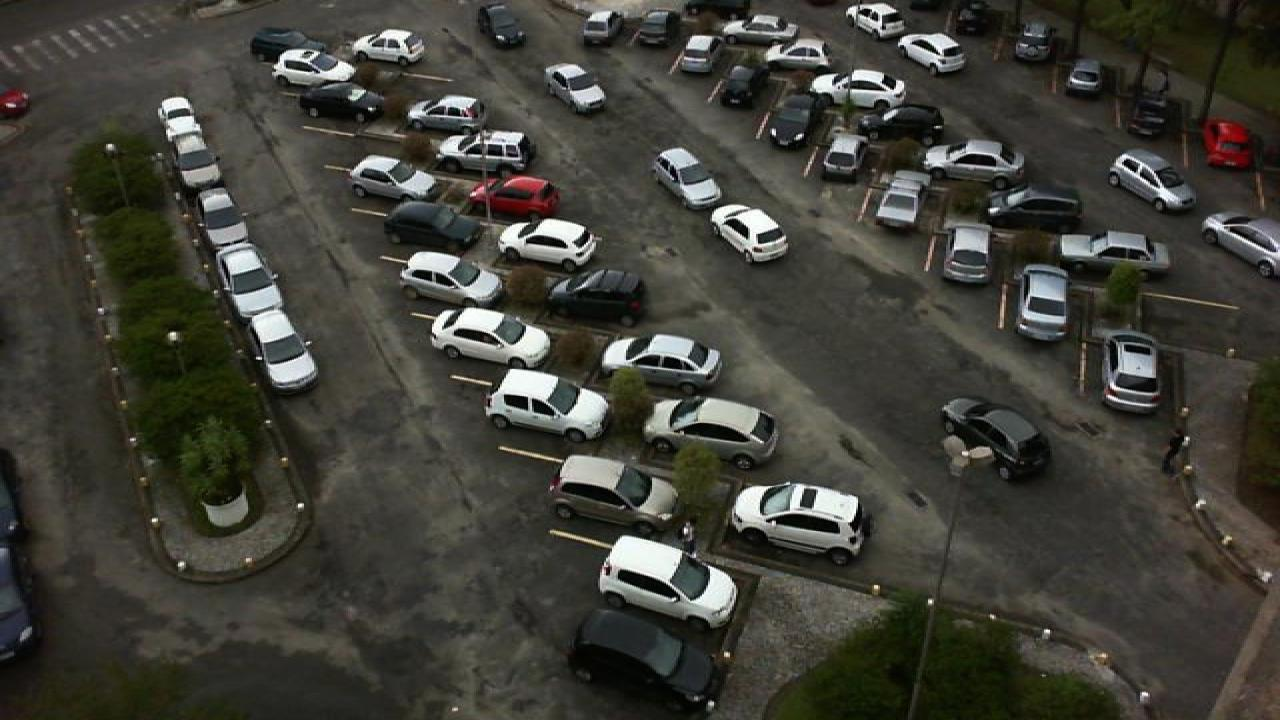Car: (568, 608, 722, 712), (596, 536, 740, 631), (728, 480, 870, 565), (548, 454, 680, 534), (640, 395, 780, 470), (484, 368, 612, 443), (938, 398, 1052, 481), (600, 332, 724, 396), (430, 305, 552, 369), (244, 309, 320, 395), (400, 250, 504, 306), (550, 268, 650, 326), (382, 199, 490, 252), (1108, 150, 1196, 214), (498, 217, 598, 272), (1100, 330, 1164, 415), (1200, 212, 1280, 276), (708, 202, 790, 264), (1058, 231, 1170, 276), (988, 183, 1086, 234), (922, 138, 1022, 187), (468, 173, 562, 222), (344, 154, 438, 203), (434, 130, 532, 176), (222, 246, 288, 313), (1014, 263, 1070, 341), (654, 146, 722, 210), (810, 71, 910, 111), (870, 168, 928, 231), (406, 93, 490, 134), (298, 81, 384, 121), (864, 102, 944, 144), (272, 49, 358, 88), (940, 222, 994, 284), (544, 62, 606, 115), (896, 31, 966, 76), (202, 189, 256, 247), (352, 28, 424, 65), (720, 12, 794, 48), (1202, 116, 1252, 169), (766, 90, 812, 147), (174, 135, 222, 186), (476, 2, 526, 50), (846, 1, 906, 41), (766, 36, 832, 71), (716, 66, 766, 110), (248, 26, 312, 60), (822, 135, 866, 183), (158, 96, 204, 140), (1130, 90, 1170, 137), (674, 34, 718, 74), (1012, 19, 1052, 62), (1066, 58, 1108, 98), (580, 8, 624, 46), (632, 8, 672, 46), (952, 0, 992, 36)
